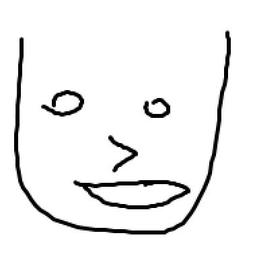empty_eye: (43, 87, 88, 121), (140, 94, 176, 124)
open_mouth: (74, 180, 191, 212)
pointy_nose: (102, 131, 142, 176)
